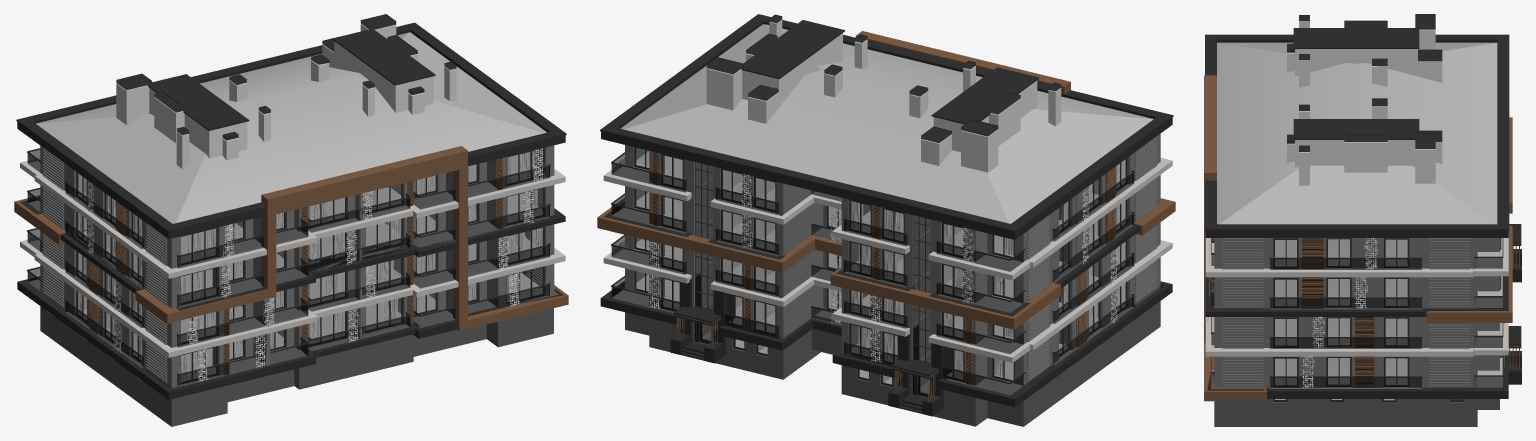
File: modernhouse.glb
3 renders of one model, left to right at view 1: azimuth 30°, elevation 25°; view 2: azimuth 150°, elevation 25°; view 3: azimuth 270°, elevation 25°, orthographic. The views are drawn at different scales.
Parts seen in each view (by area): view 1: environmental_building100; view 2: environmental_building100; view 3: environmental_building100.
Boxes of the visible parts, left/top/right/bottom form: environmental_building100: left=14, top=14, right=568, bottom=426; environmental_building100: left=597, top=14, right=1175, bottom=426; environmental_building100: left=1204, top=14, right=1521, bottom=426.
Bounding box in the file's own units: 32.96 × 19.84 × 22.57.
